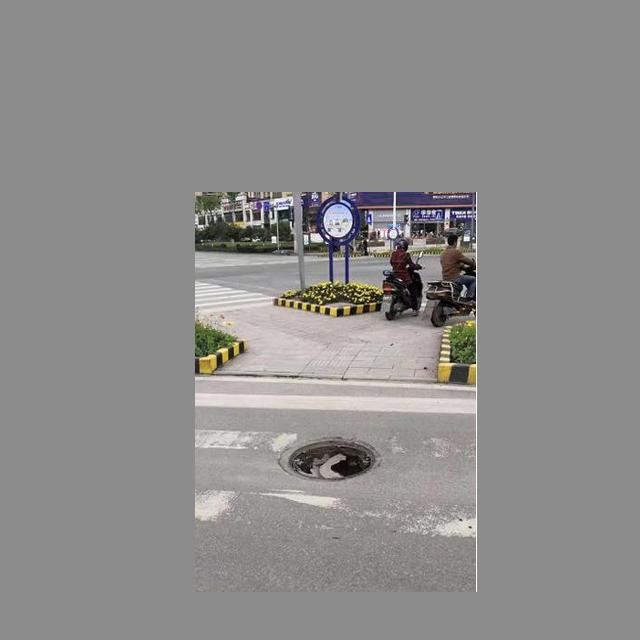broke: (268, 421, 388, 495)
